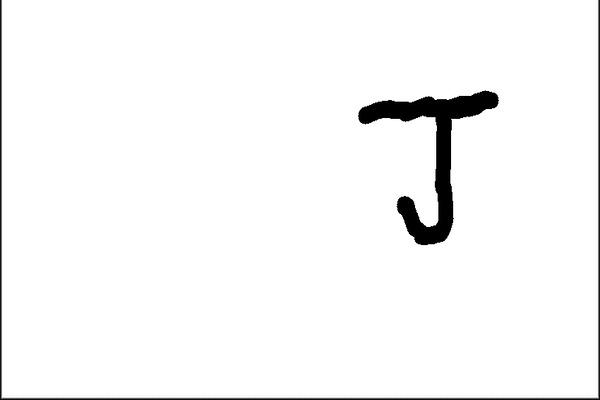J: (353, 85, 502, 243)
